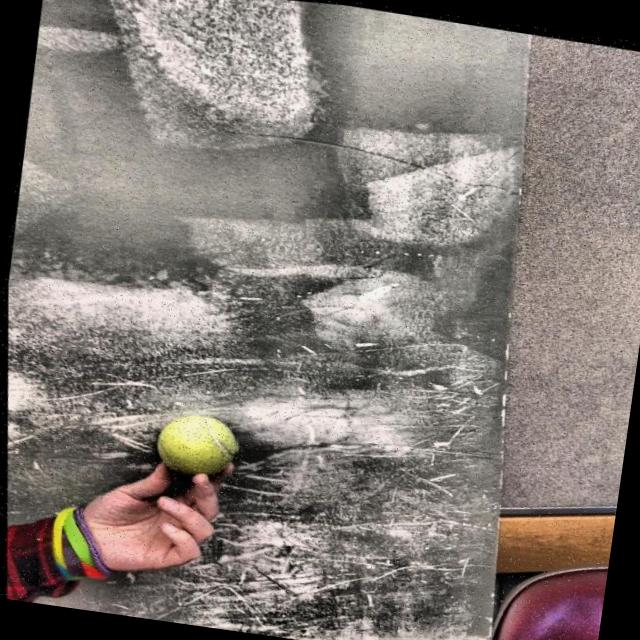tennis-ball: (143, 402, 245, 490)
